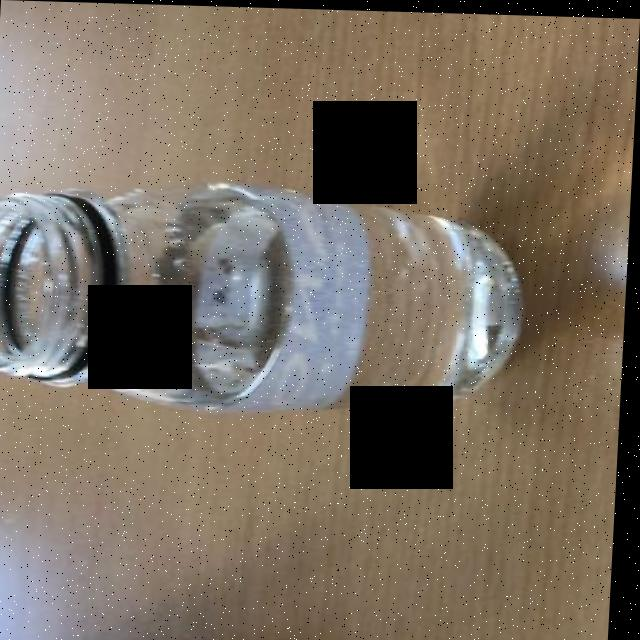water: (138, 172, 537, 416), (157, 190, 538, 420), (163, 194, 523, 407)
